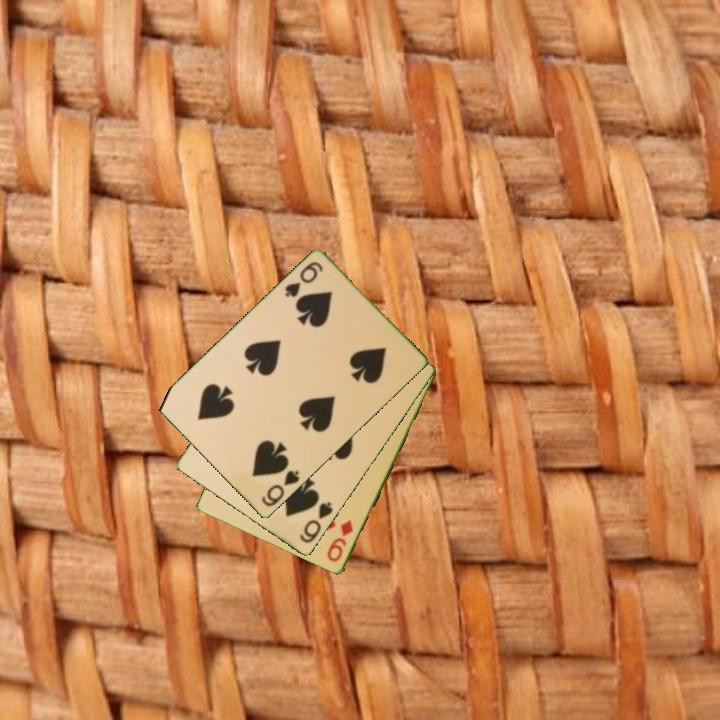6s: (258, 467, 303, 510), (281, 258, 326, 301), (296, 498, 336, 546)
9d: (324, 516, 357, 565)
